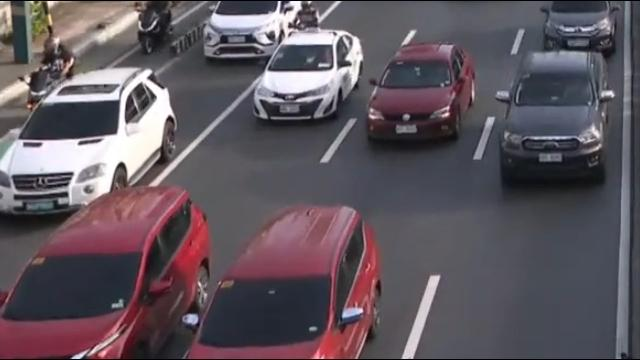car: (179, 191, 429, 360), (0, 175, 218, 357), (0, 59, 191, 223), (493, 45, 626, 191), (358, 37, 483, 145), (251, 19, 369, 131), (202, 0, 310, 60), (542, 1, 624, 55)
motorcycle: (25, 29, 78, 107), (132, 0, 179, 56), (287, 0, 327, 34)
